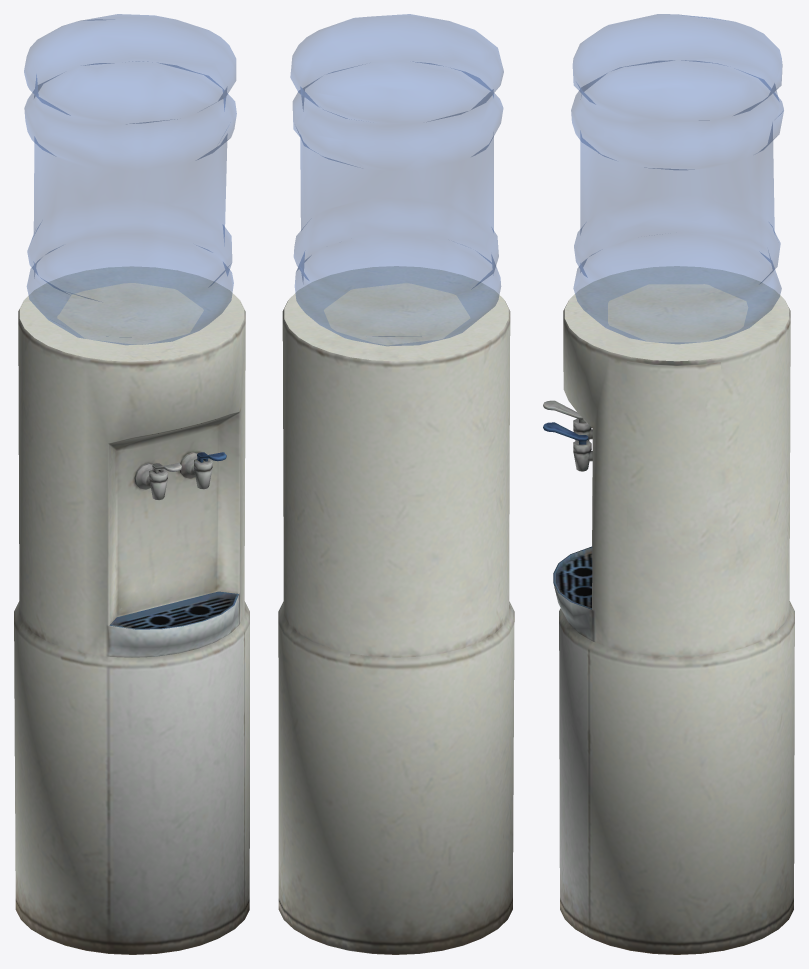
File: Water cooler.FBX
3 views of the same model, side by side, from view 1: azimuth 30°, elevation 25°; view 2: azimuth 150°, elevation 25°; view 3: azimuth 270°, elevation 25° (orthographic).
Parts seen in each view (by area): view 1: Water cooler, water; view 2: Water cooler, water; view 3: Water cooler, water.
Boxes of the visible parts, box(x1,y1,x2,y2) form: Water cooler: box(14, 266, 249, 954); water: box(24, 14, 236, 344); Water cooler: box(278, 266, 514, 954); water: box(290, 14, 503, 345); Water cooler: box(543, 266, 794, 954); water: box(571, 14, 783, 343).
Bounding box in the file's own units: 37.4 × 149 × 39.72.
Materials: 2 (1 with a texture image).
